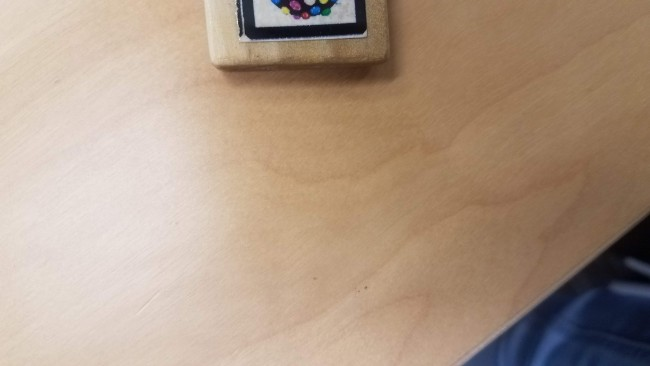cookie: (233, 1, 371, 44)
